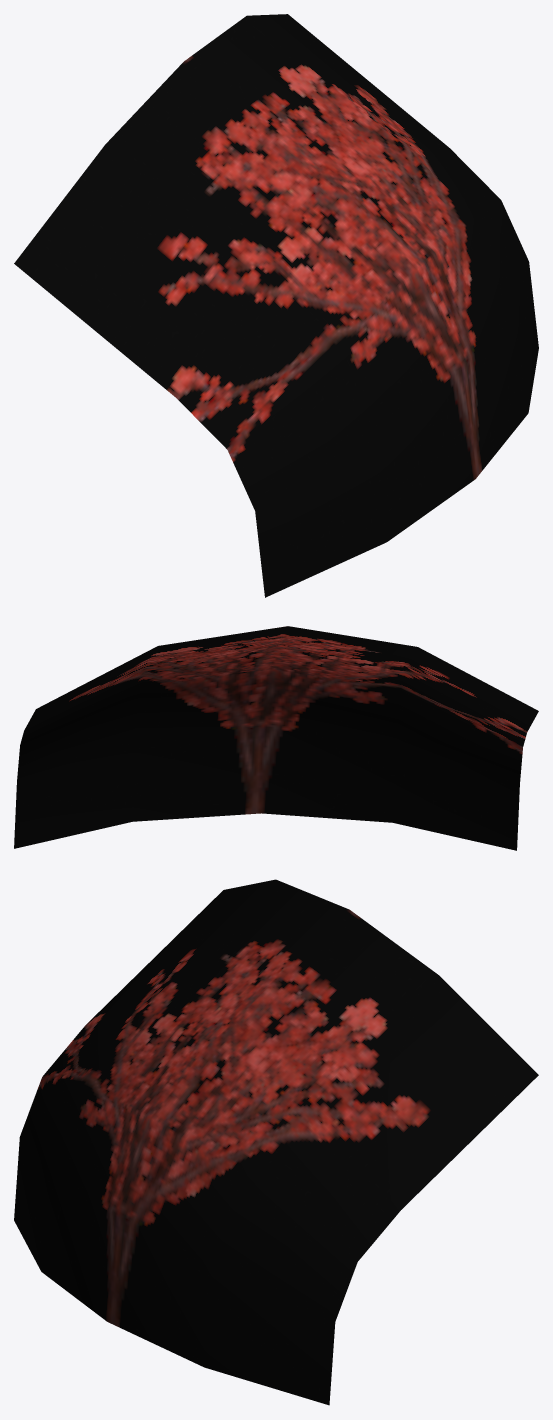
The model's file is SM_EN_Bush_4.fbx.
The picture shows the model from 3 angles, top to bottom: view 1: azimuth 30°, elevation 25°; view 2: azimuth 150°, elevation 25°; view 3: azimuth 270°, elevation 25°; orthographic projection. The views are drawn at different scales.
Visible parts, largest first — view 1: SM_EN_Bush_4; view 2: SM_EN_Bush_4; view 3: SM_EN_Bush_4.
Boxes of the visible parts, bbox=[...] form: SM_EN_Bush_4: bbox=[14, 14, 538, 597]; SM_EN_Bush_4: bbox=[14, 626, 538, 850]; SM_EN_Bush_4: bbox=[14, 879, 538, 1405].
Bounding box in the file's own units: 183 × 219 × 137.
